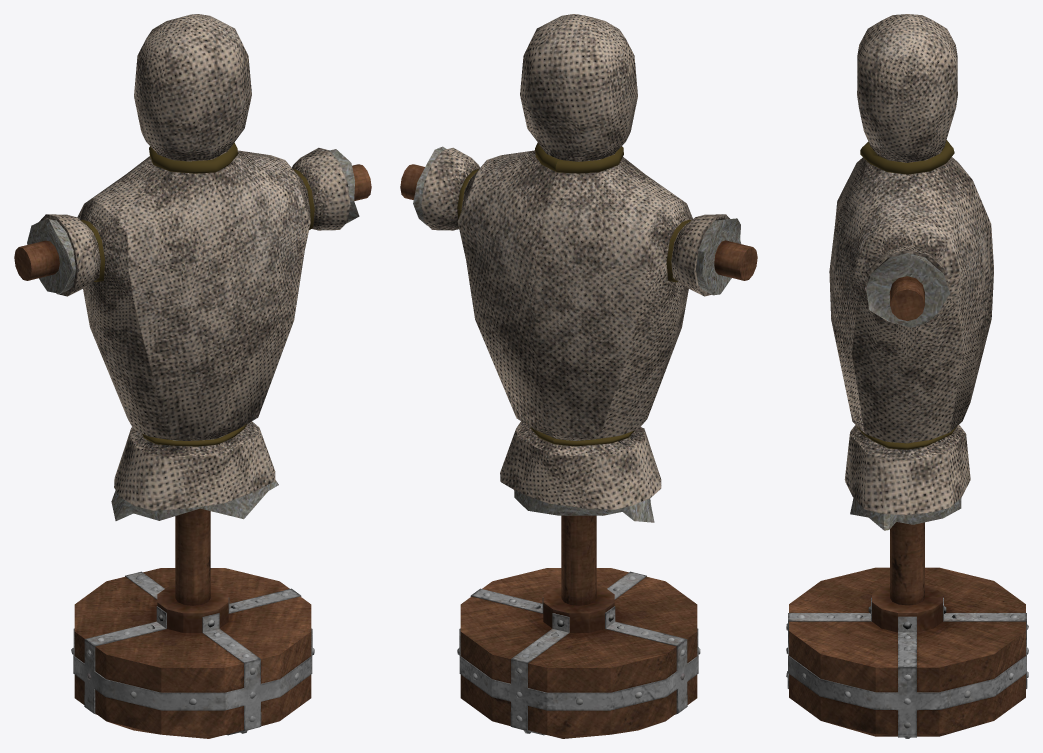
The model's file is dummy_post.glb.
3 views of the same model, side by side, from view 1: azimuth 30°, elevation 25°; view 2: azimuth 150°, elevation 25°; view 3: azimuth 270°, elevation 25° (orthographic).
Parts seen in each view (by area): view 1: Object_4; view 2: Object_4; view 3: Object_4.
Boxes of the visible parts, x1,y1,x2,y2 form: Object_4: [14, 14, 371, 738]; Object_4: [400, 14, 757, 738]; Object_4: [786, 14, 1028, 738].
Bounding box in the file's own units: 2.24 × 4.42 × 1.39.
1 material, 1 textured.
